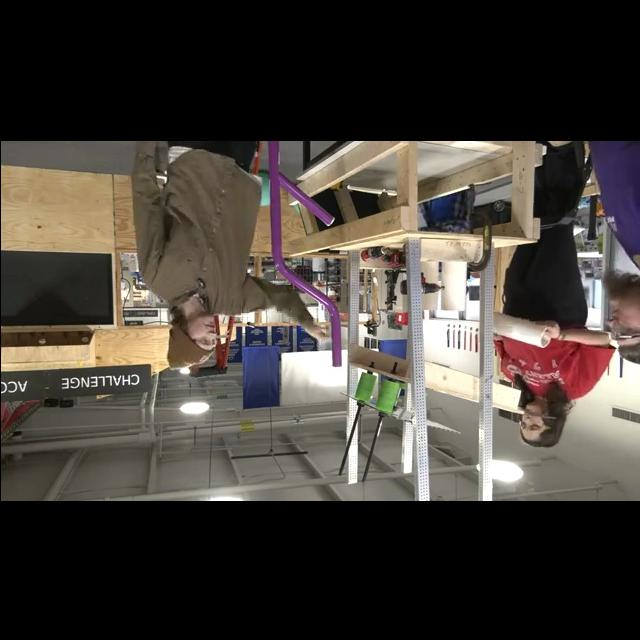CORAL: (492, 311, 552, 349), (440, 261, 464, 309)
